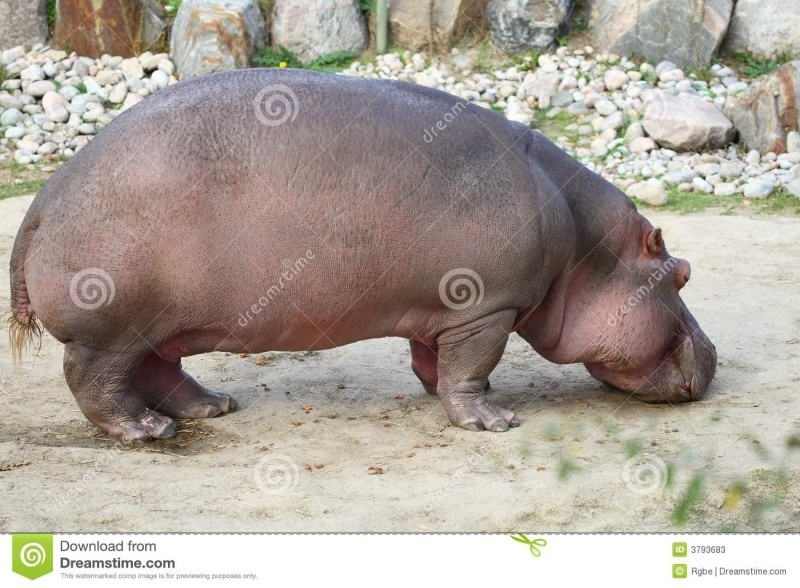hipopotamo: (7, 65, 721, 438)
